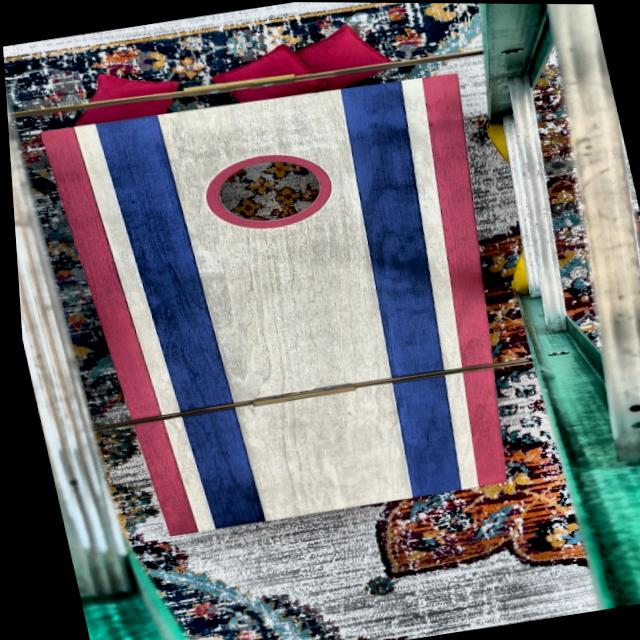board: (75, 76, 500, 534)
hole: (194, 146, 336, 238)
red-bean-bag: (205, 39, 330, 107), (286, 18, 394, 94), (63, 63, 181, 128)
